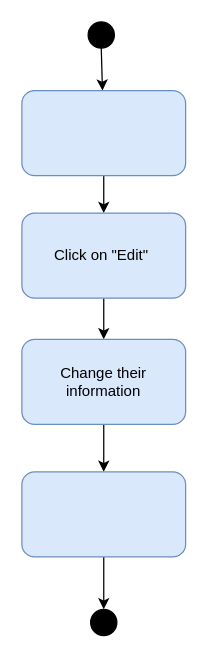
This 208x658 diagram has some shape labels left out. Each missing label, with the centre of its shape:
Click on ACCOUNT section: point 103,132
Click on Save button: point 103,514
